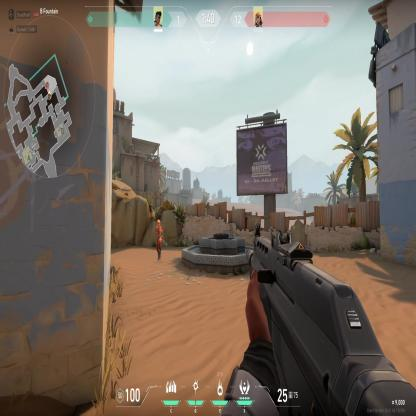enemy: (154, 218, 164, 261)
